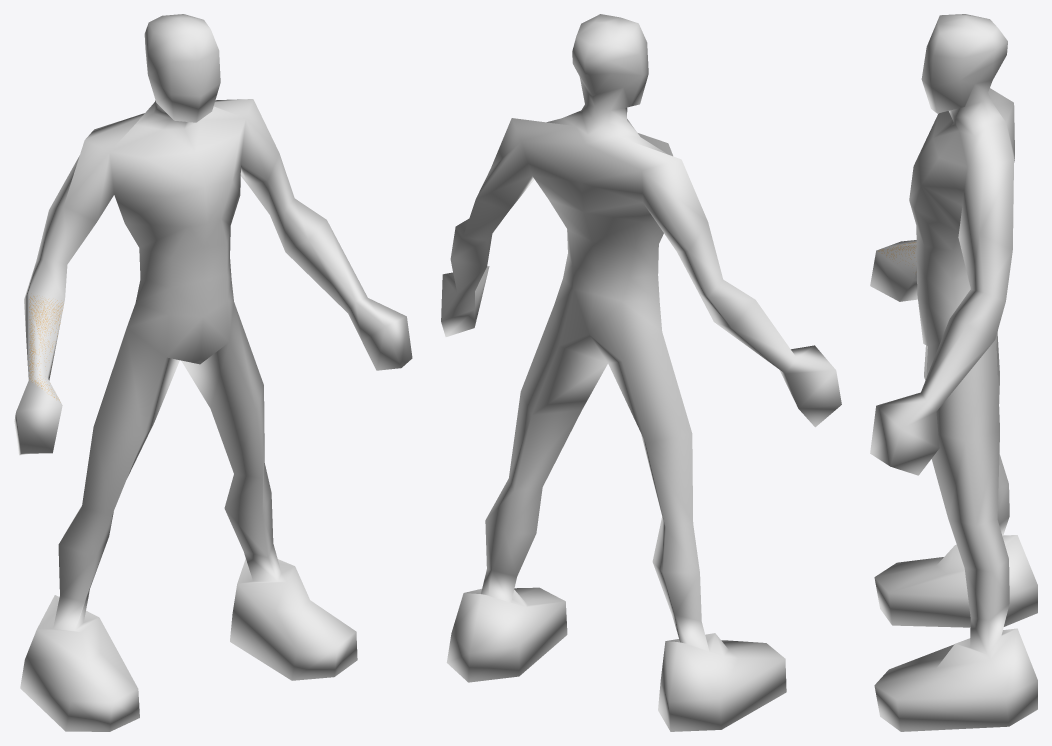
Rendered from BaseMesh_UvEdited.fbx.
The picture shows the model from 3 angles, left to right: view 1: azimuth 30°, elevation 25°; view 2: azimuth 150°, elevation 25°; view 3: azimuth 270°, elevation 25°; orthographic projection. The views are drawn at different scales.
Parts seen in each view (by area): view 1: BASE_Low Poly Man; view 2: BASE_Low Poly Man; view 3: BASE_Low Poly Man.
Boxes of the visible parts, x1=… form: BASE_Low Poly Man: x1=14, y1=14, x2=412, y2=731; BASE_Low Poly Man: x1=441, y1=14, x2=841, y2=731; BASE_Low Poly Man: x1=870, y1=14, x2=1037, y2=731.
Bounding box in the file's own units: 356 × 568 × 134.
